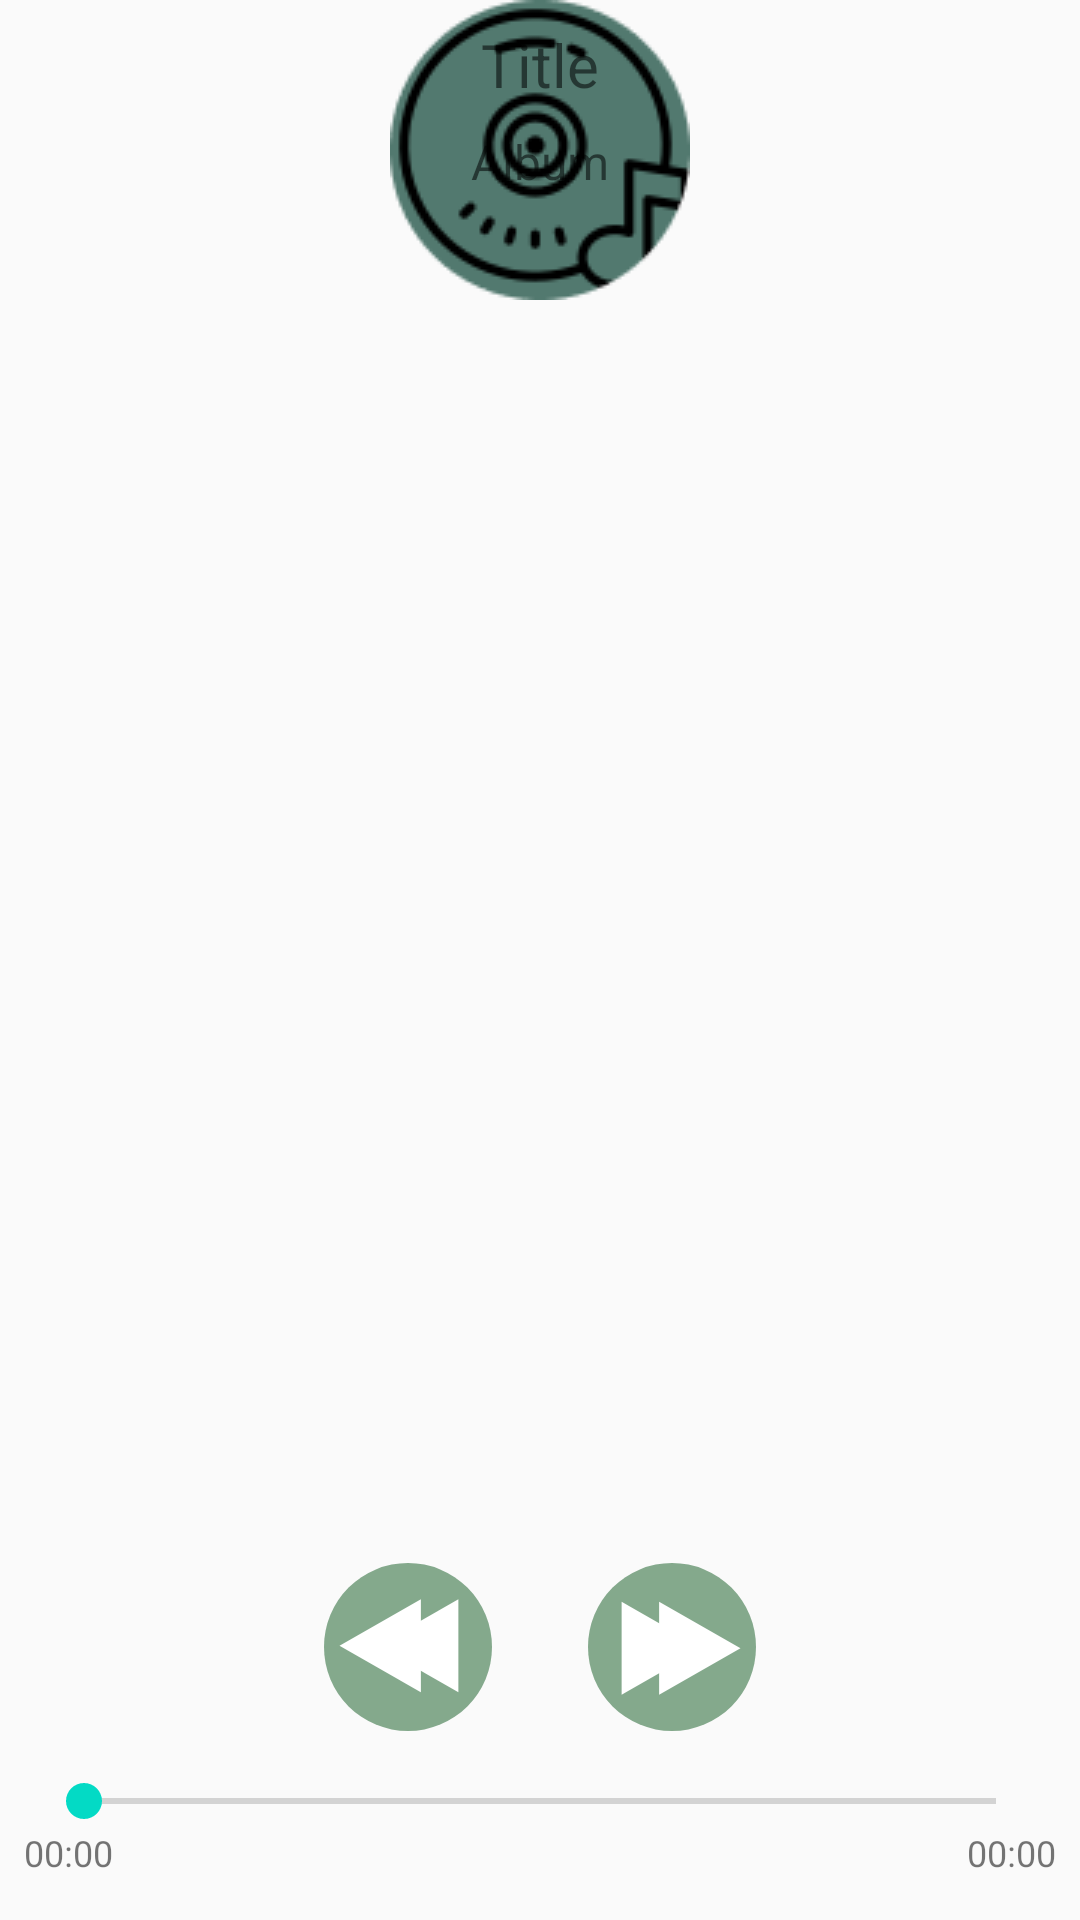

Named icons in this screenshot (1080×1920) and their bounding boxes, (x1, y1, x2, y2):
backward: (324, 1563, 492, 1731)
forward: (588, 1563, 756, 1731)
